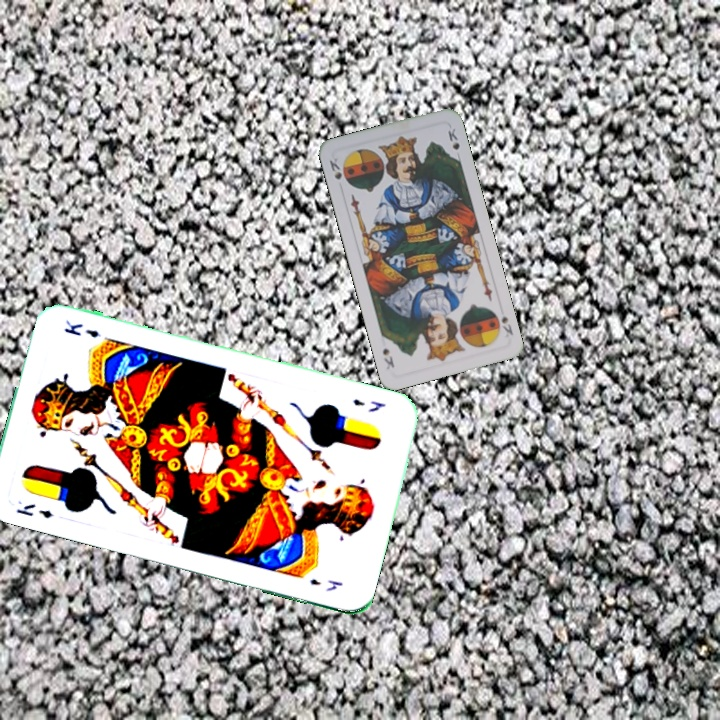EK: (12, 500, 56, 521), (349, 394, 389, 415)
SK: (325, 154, 350, 187), (497, 311, 516, 340)
